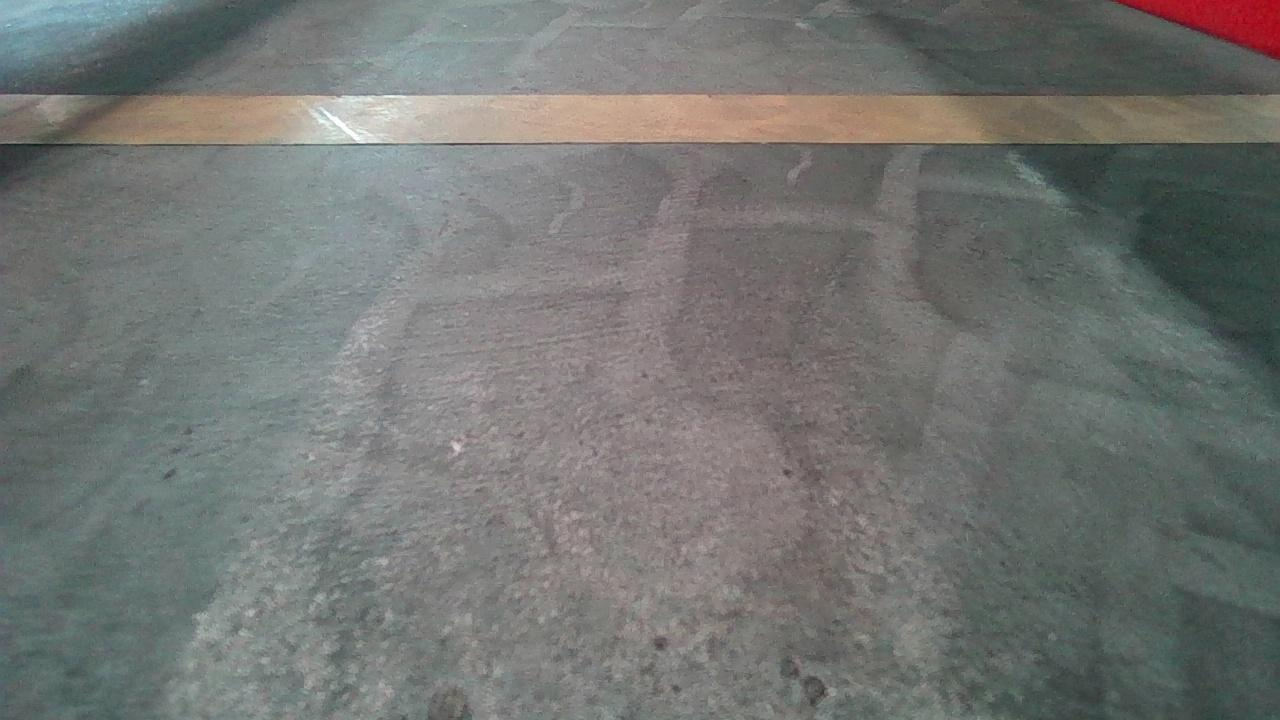yellow_line: (7, 82, 1280, 146)
